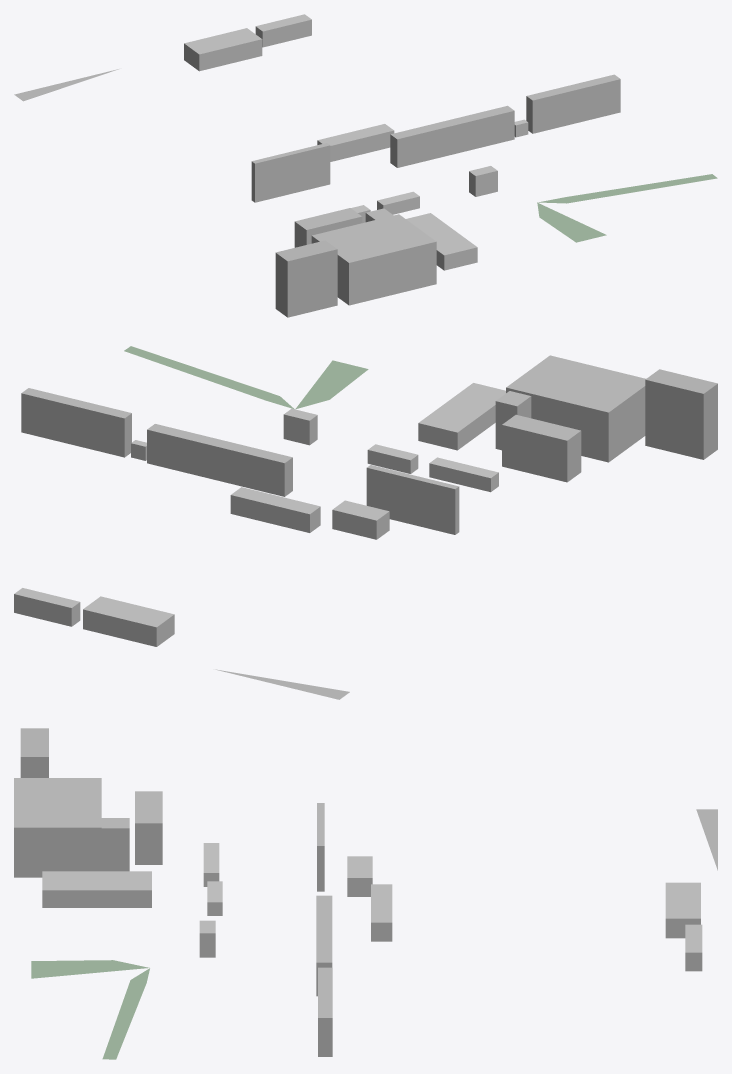
Rendered from 129_109_mid.glb.
3 renders of one model, top to bottom at view 1: azimuth 30°, elevation 25°; view 2: azimuth 150°, elevation 25°; view 3: azimuth 270°, elevation 25°, orthographic. The views are drawn at different scales.
Bounding box in the file's own units: 458 × 53.93 × 512.
